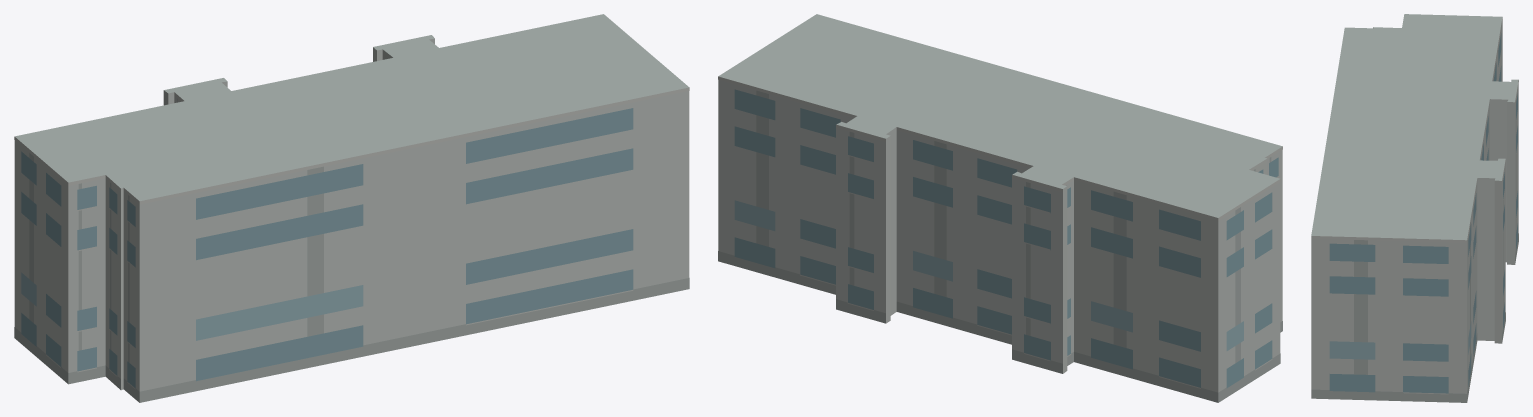
The model's file is survey-upis-33016808.glb.
3 renders of one model, left to right at view 1: azimuth 30°, elevation 25°; view 2: azimuth 150°, elevation 25°; view 3: azimuth 270°, elevation 25°, orthographic. The views are drawn at different scales.
Parts seen in each view (by area): view 1: survey-upis-33016808.tmp; view 2: survey-upis-33016808.tmp; view 3: survey-upis-33016808.tmp.
Part boxes in pixels (x1,y1,x2,y2): survey-upis-33016808.tmp: (14,14,689,402); survey-upis-33016808.tmp: (718,14,1282,402); survey-upis-33016808.tmp: (1311,14,1518,402).
Size of the model in its own units: 42.34 by 14.2 by 16.43.
